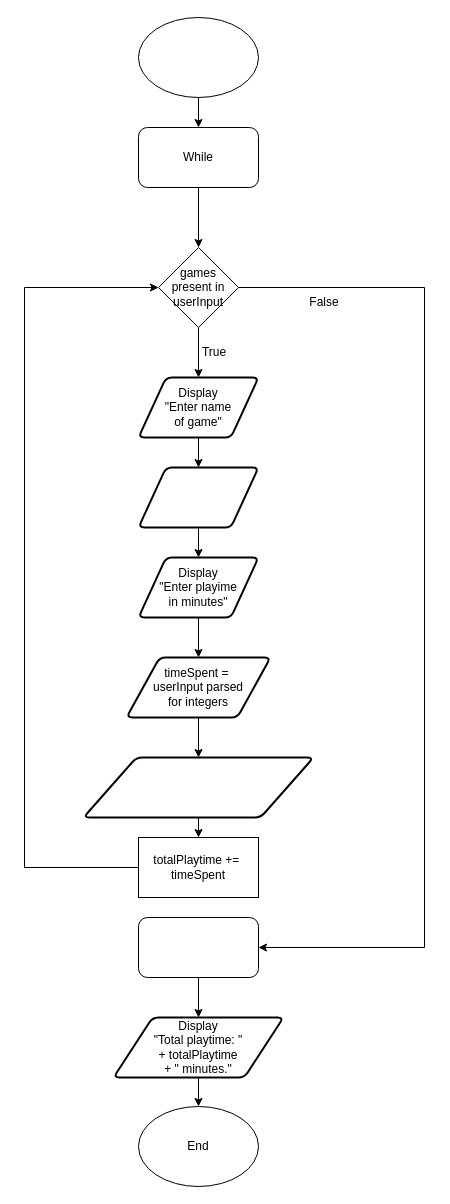
Some shapes in this 450 by 1204 pixel diagram are drawn without their labels. Here are the shapes that lost their labels. From the top down, the centre of each, then its label:
point (198, 57): Start
point (198, 497): titlePlayed = userInput
point (198, 787): Display "You played " + titlePlayed + " for " + timeSpent + " minutes."
point (198, 947): End while
